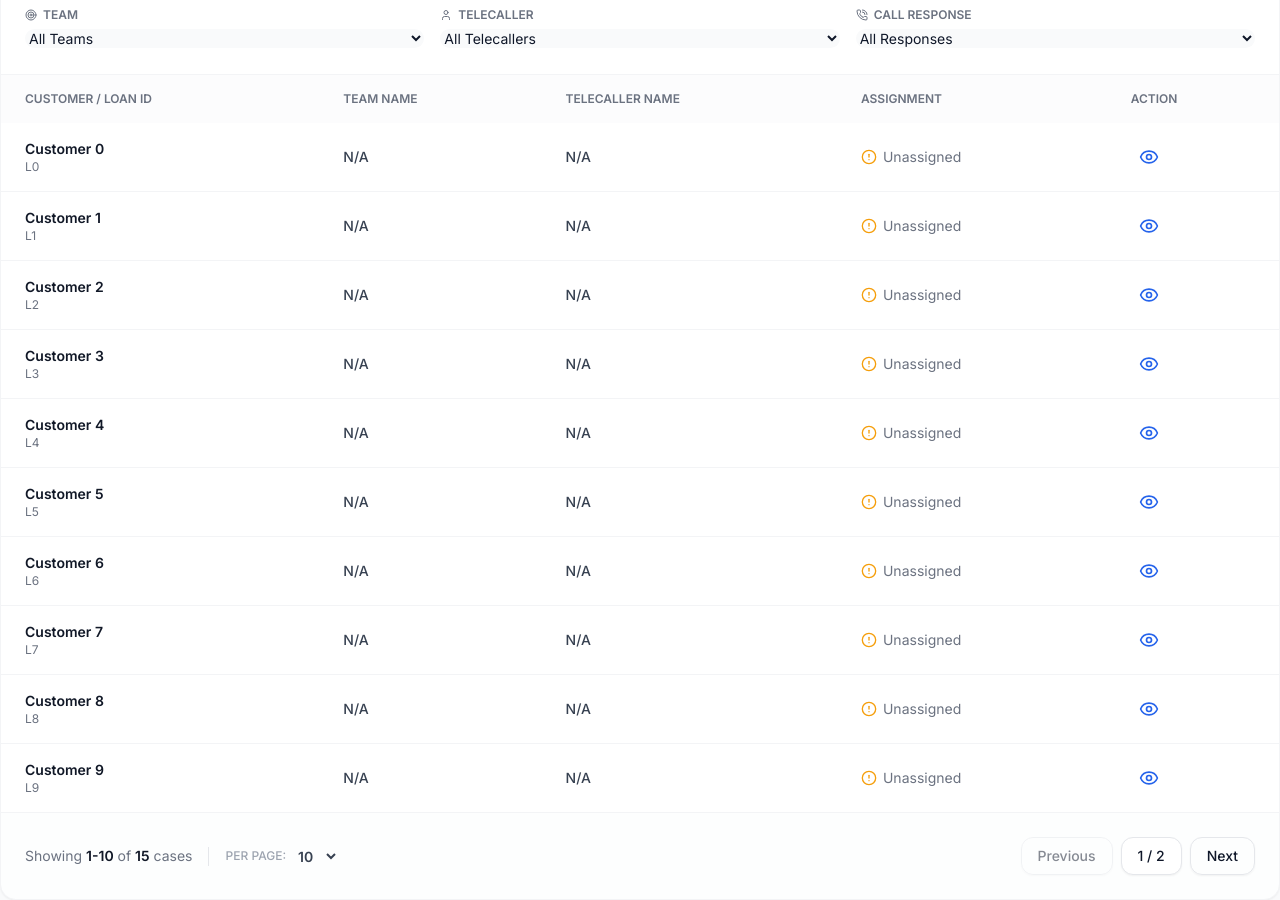
Test: CaseListSection › handles pagination
(page scrolled)
Check: the text "Showing 1-10 of 15 cases" is shown, box 25,846 -> 192,866
Check: the text "1-10" is shown, box 86,847 -> 114,864
Find Next button
What coordinates should you click on to do the following:
click the button "Next"
I would click on:
 (1222, 856)
Its box is 1190,837 -> 1255,875.
(page scrolled)
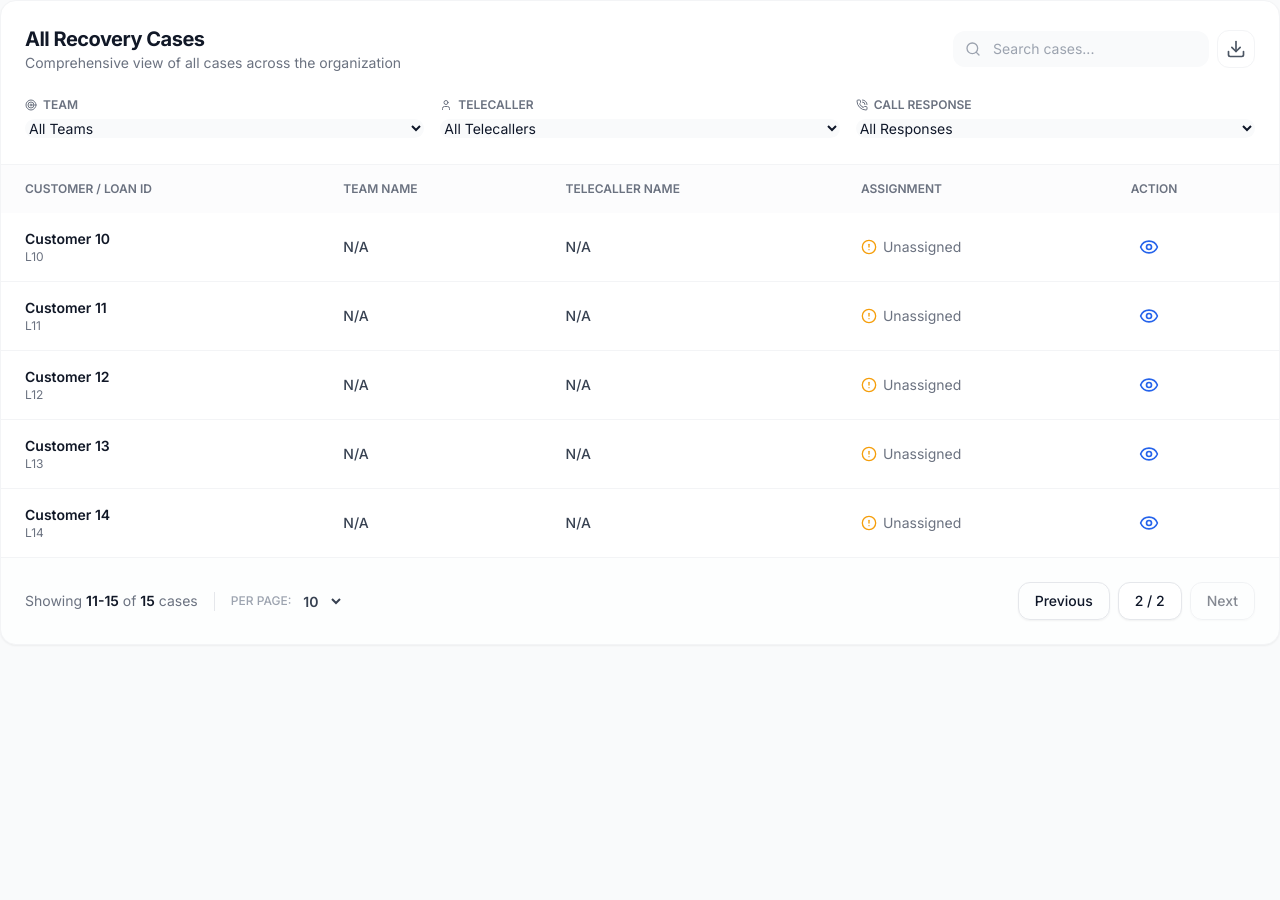
Check: the text "11-15" is shown, box 86,592 -> 119,609
Check: the text "Customer 10" is shown, box 25,230 -> 110,247
